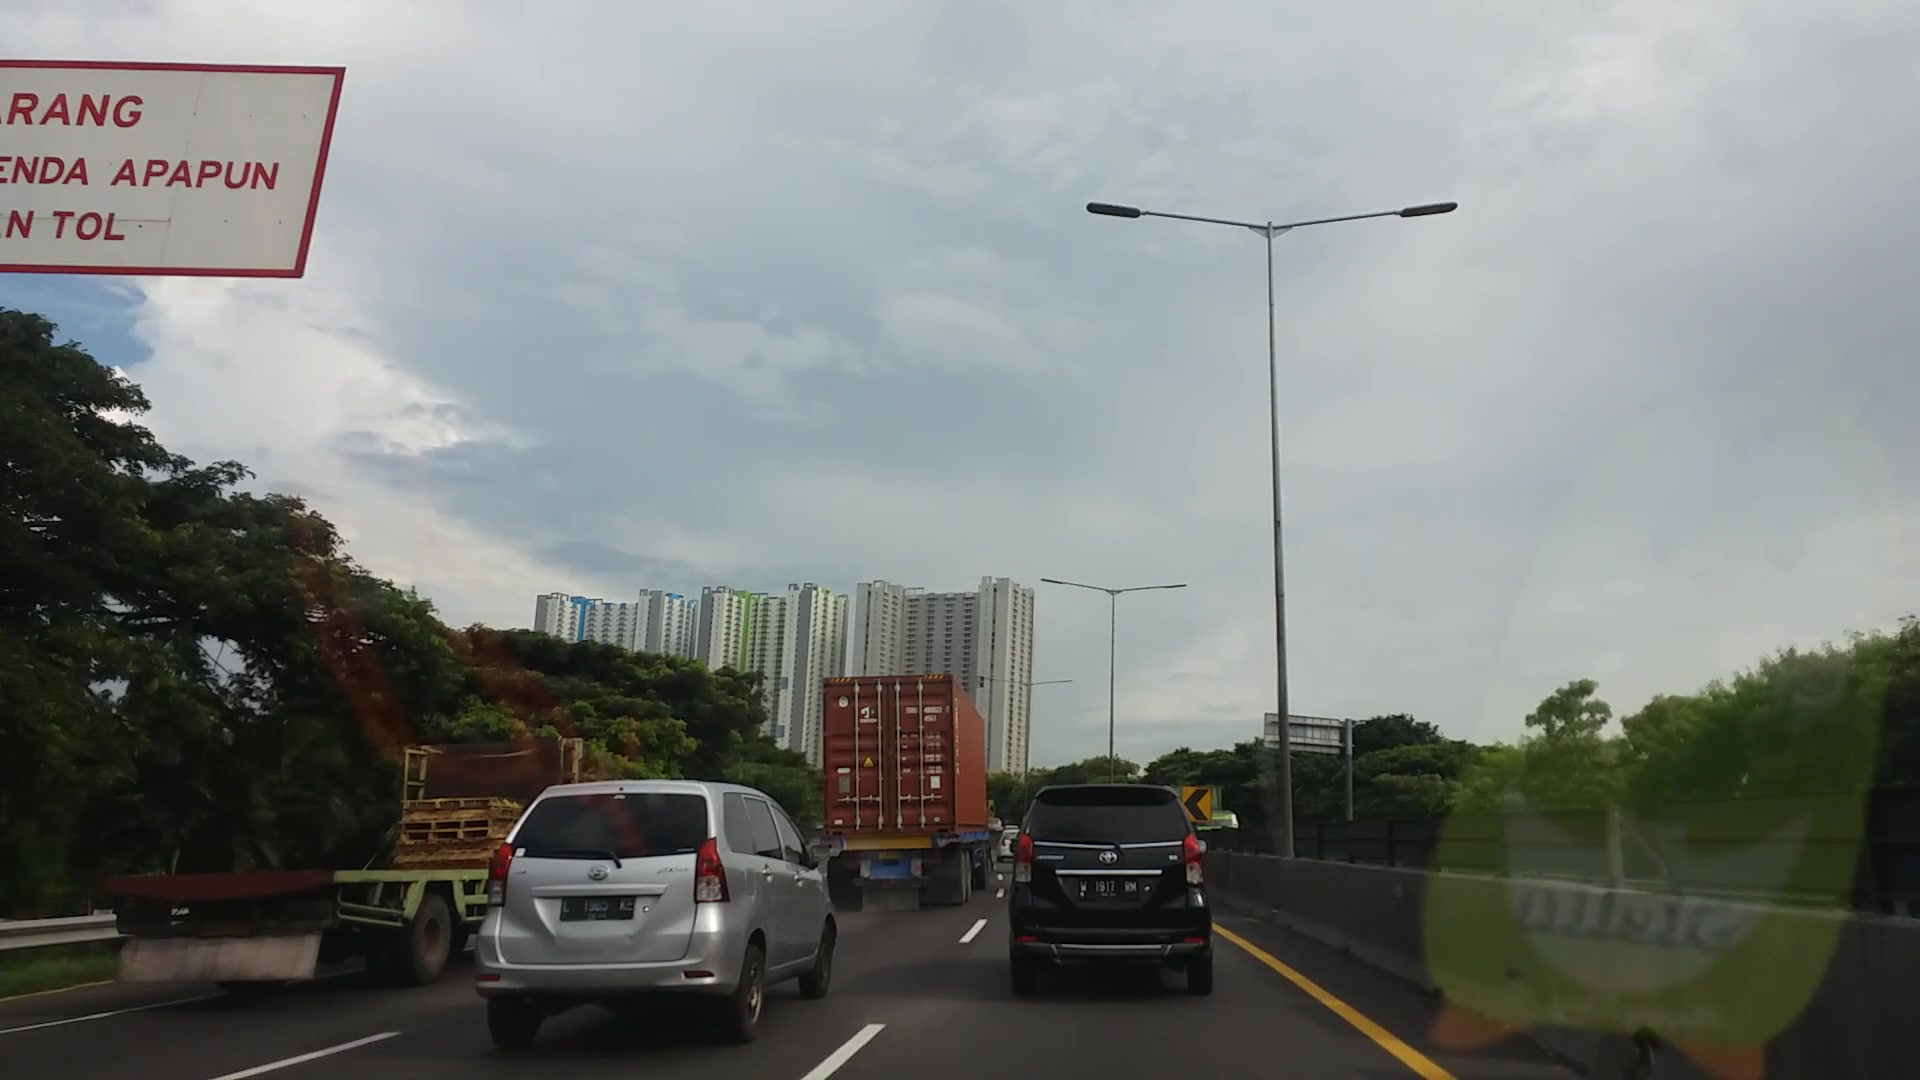plate_positive: (560, 894, 636, 920), (1077, 876, 1139, 901)
